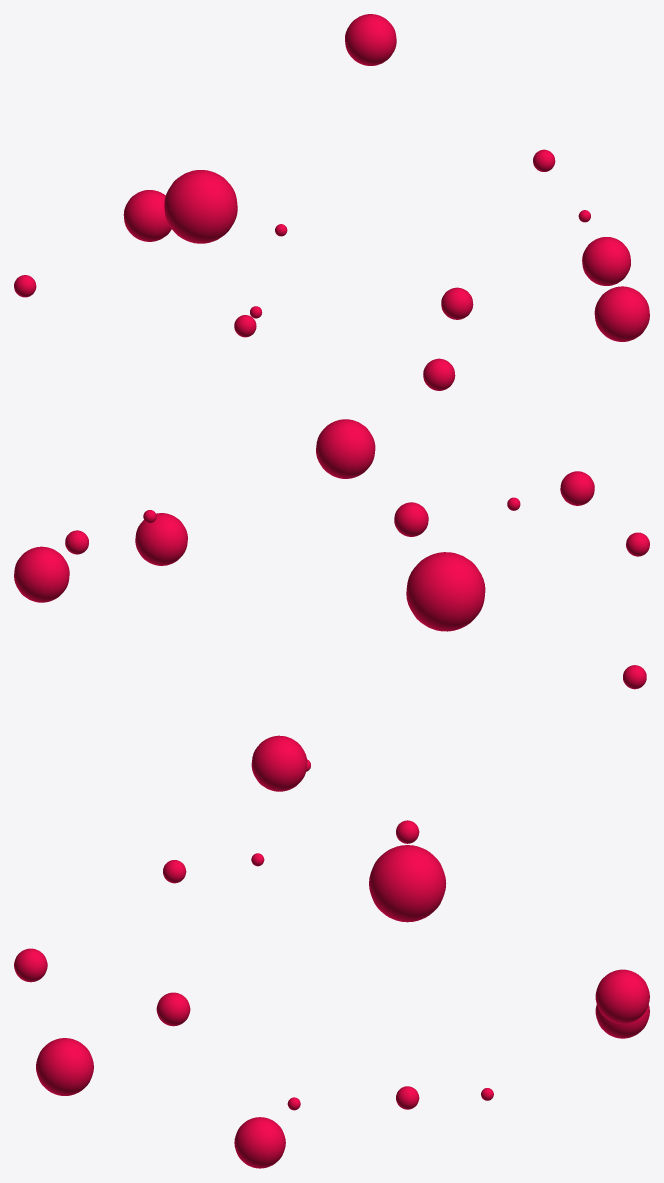
File: Ribosomes.fbx
3 views of the same model, one above another, from view 1: azimuth 30°, elevation 25°; view 2: azimuth 150°, elevation 25°; view 3: azimuth 270°, elevation 25° (orthographic). The views are drawn at different scales.
Parts seen in each view (by area): view 1: Ribosomes; view 2: Ribosomes; view 3: Ribosomes.
Part boxes in pixels (<box>): Ribosomes: <box>14,14,649,390</box>; Ribosomes: <box>14,419,649,791</box>; Ribosomes: <box>14,820,649,1168</box>.
Size of the model in its own units: 13.58 by 5.04 by 13.22.
